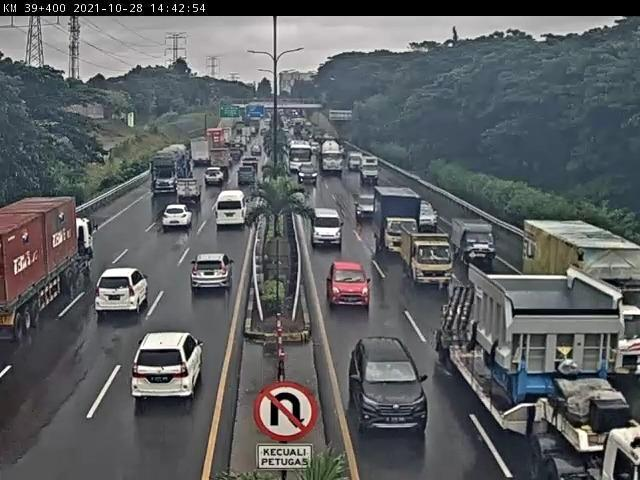car: (347, 336, 432, 444), (132, 333, 206, 402), (95, 268, 151, 316), (329, 259, 374, 312), (190, 253, 237, 294), (312, 206, 346, 252), (215, 191, 252, 229), (356, 192, 390, 222), (163, 204, 196, 232)
truck: (1, 197, 101, 346), (400, 223, 459, 289), (375, 186, 425, 257), (451, 217, 499, 262)
